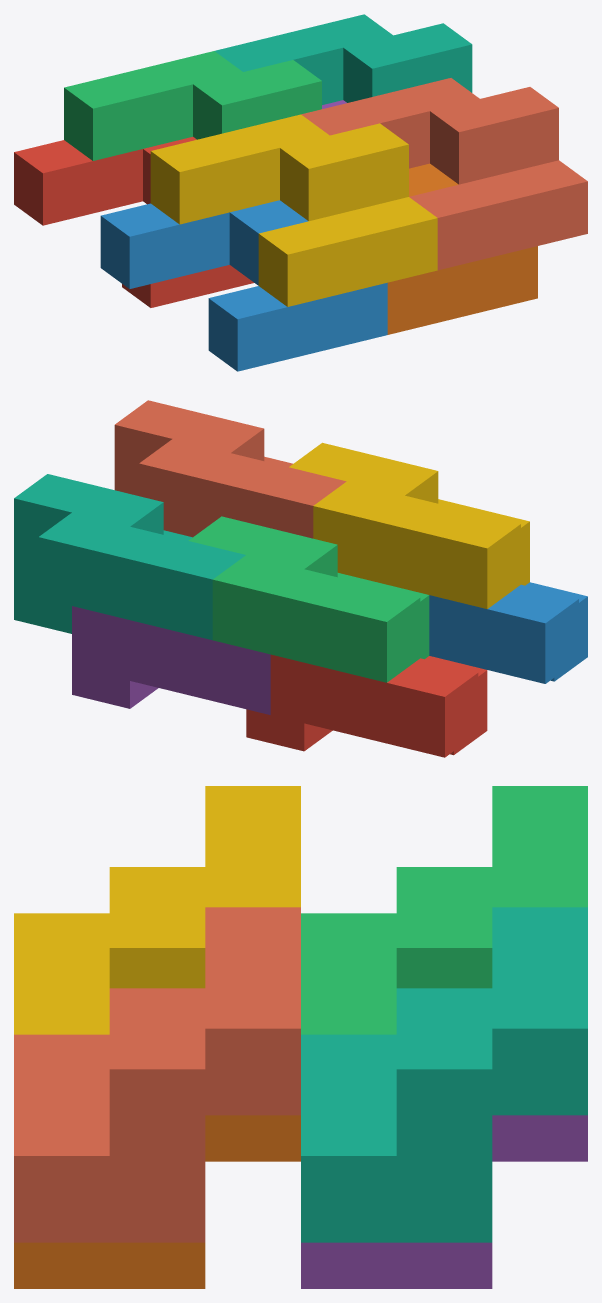
Rendered from tiling.obj.
3 views of the same model, one above another, from view 1: azimuth 30°, elevation 25°; view 2: azimuth 150°, elevation 25°; view 3: azimuth 270°, elevation 25° (orthographic). The views are drawn at different scales.
Visible parts, largest first — view 1: copy_1_domain_4, copy_1_domain_8, copy_1_domain_2, copy_1_domain_3, copy_1_domain_7, copy_1_domain_1, copy_1_domain_6; view 2: copy_1_domain_7, copy_1_domain_3, copy_1_domain_4, copy_1_domain_8, copy_1_domain_1, copy_1_domain_5, copy_1_domain_2; view 3: copy_1_domain_7, copy_1_domain_8, copy_1_domain_3, copy_1_domain_4, copy_1_domain_5, copy_1_domain_6.
Part boxes in pixels (<box>): copy_1_domain_4: <box>150,114,437,306</box>; copy_1_domain_8: <box>301,78,587,270</box>; copy_1_domain_2: <box>100,200,387,371</box>; copy_1_domain_3: <box>64,51,321,160</box>; copy_1_domain_7: <box>215,14,472,104</box>; copy_1_domain_1: <box>14,137,253,307</box>; copy_1_domain_6: <box>387,163,537,334</box>; copy_1_domain_7: <box>14,474,245,640</box>; copy_1_domain_3: <box>188,516,429,682</box>; copy_1_domain_4: <box>289,442,529,608</box>; copy_1_domain_8: <box>114,400,346,538</box>; copy_1_domain_1: <box>246,654,487,757</box>; copy_1_domain_5: <box>72,606,270,714</box>; copy_1_domain_2: <box>429,582,587,683</box>; copy_1_domain_7: <box>301,907,587,1242</box>; copy_1_domain_8: <box>14,907,300,1242</box>; copy_1_domain_3: <box>301,786,587,1034</box>; copy_1_domain_4: <box>14,786,300,1034</box>; copy_1_domain_5: <box>301,1115,587,1288</box>; copy_1_domain_6: <box>14,1115,300,1288</box>.
Size of the model in its own units: 8 by 3 by 6.
